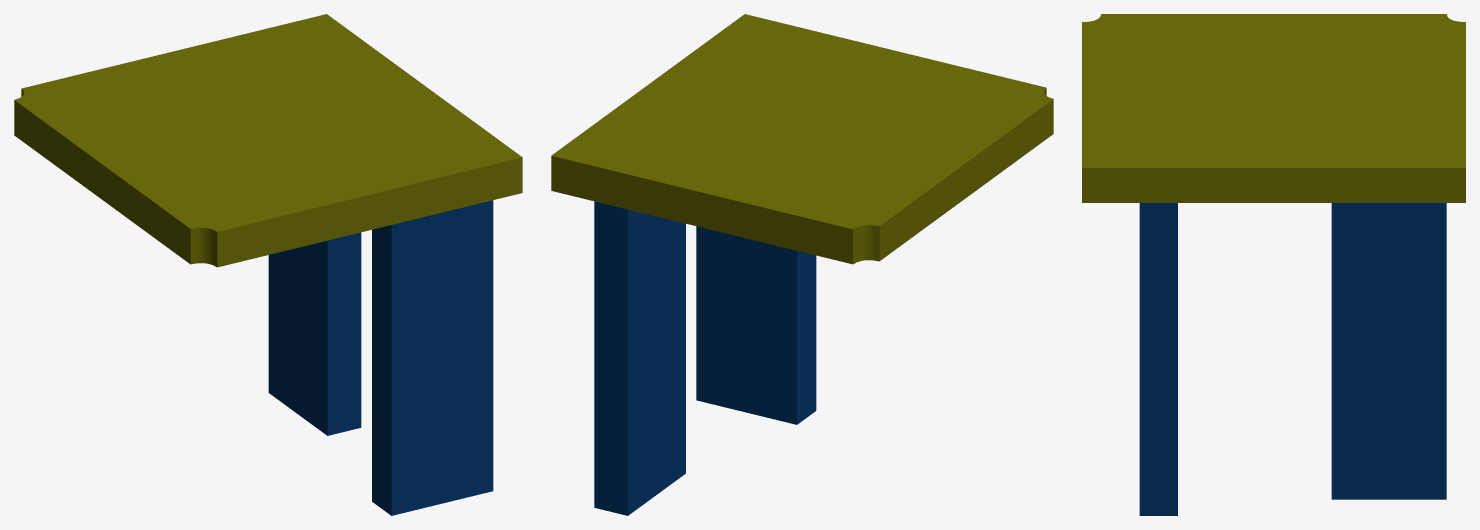
File: Pillar_04_C_F.fbx
3 views of the same model, side by side, from view 1: azimuth 30°, elevation 25°; view 2: azimuth 150°, elevation 25°; view 3: azimuth 270°, elevation 25° (orthographic). The views are drawn at different scales.
Visible parts, largest first — view 1: 1, 2, 3, 4; view 2: 2, 1, 4, 3; view 3: 2, 1, 3, 4.
Part boxes in pixels (left/top/right/bottom): 1: left=264, top=85, right=522, bottom=515; 2: left=166, top=14, right=424, bottom=435; 3: left=102, top=125, right=361, bottom=267; 4: left=14, top=53, right=262, bottom=199; 2: left=551, top=85, right=806, bottom=515; 1: left=648, top=14, right=903, bottom=424; 4: left=710, top=124, right=966, bottom=264; 3: left=807, top=53, right=1053, bottom=197; 2: left=1274, top=91, right=1465, bottom=499; 1: left=1082, top=91, right=1273, bottom=515; 3: left=1082, top=14, right=1273, bottom=90; 4: left=1274, top=14, right=1465, bottom=90.
Bounding box in the file's own units: 190 × 200 × 200.
